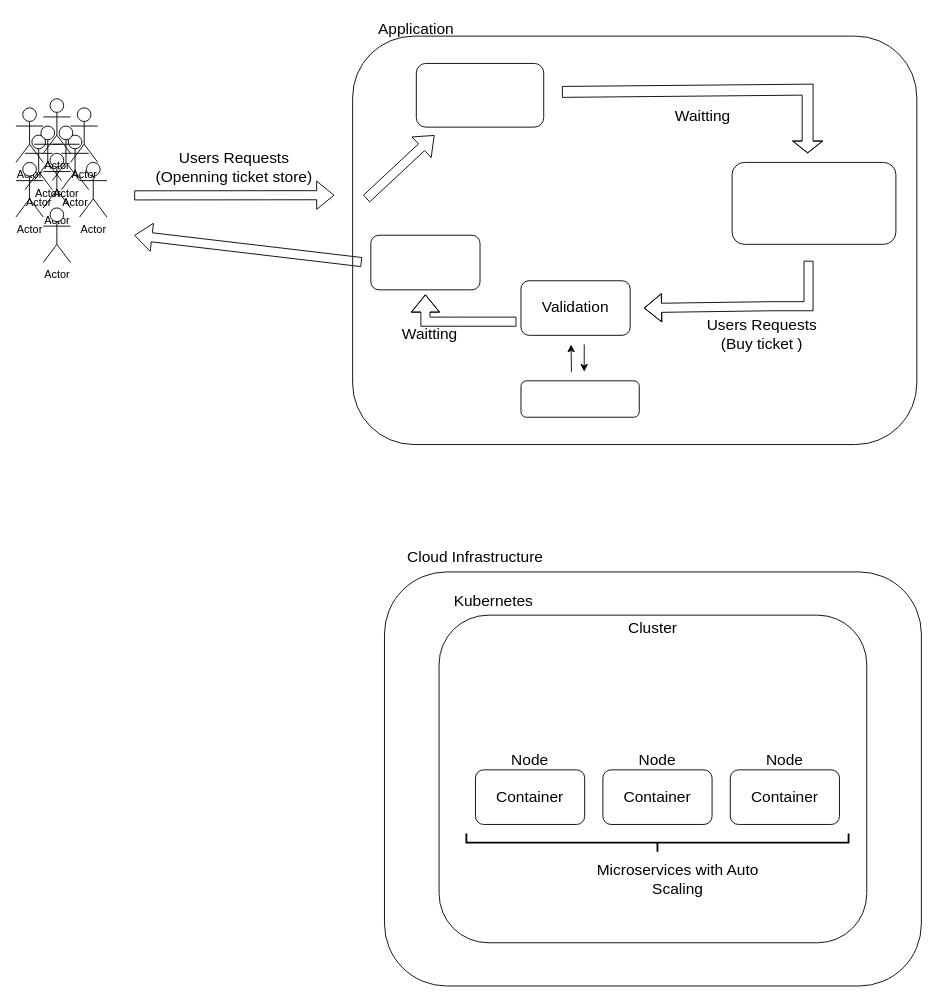
The diagram is 937 pixels wide and 1002 high, and some of its shapes have lost their labels. The centre of each missing label's shape, as x and y in pixels:
End of the line and Purchase Interface: [813,203]
Hidden Purchase Line: [579,398]
Sucess Page: [425,262]
Virtual Line Interface: [479,95]
